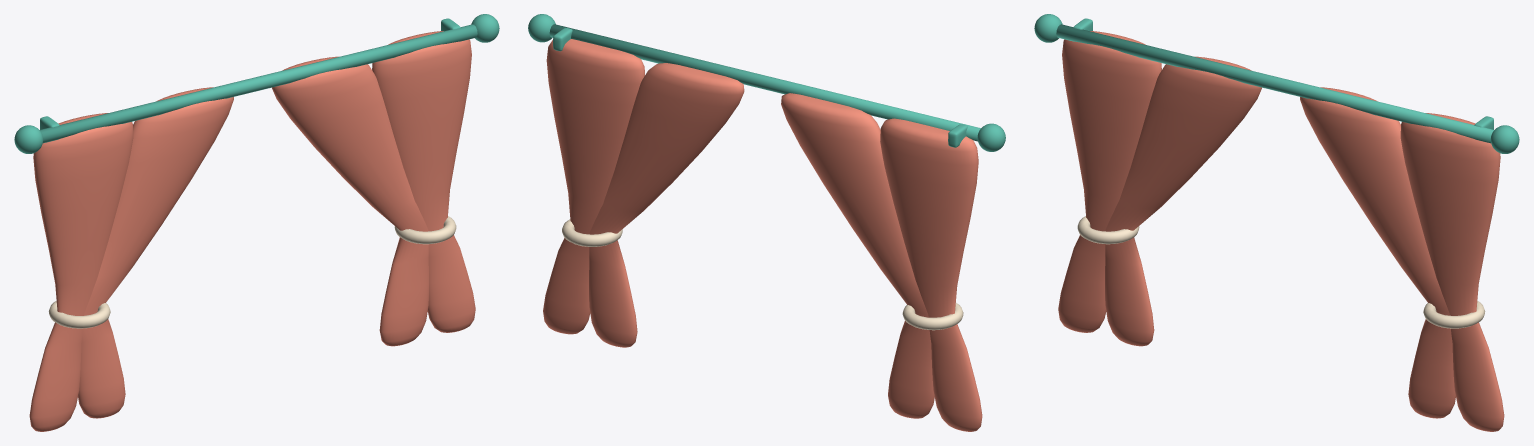
File: curtains_b.glb
The picture shows the model from 3 angles, left to right: view 1: azimuth 30°, elevation 25°; view 2: azimuth 150°, elevation 25°; view 3: azimuth 330°, elevation 25°; orthographic projection.
Visible parts, largest first — view 1: body; view 2: body; view 3: body.
Boxes of the visible parts, x1=… form: body: x1=14, y1=14, x2=499, y2=431; body: x1=528, y1=14, x2=1005, y2=431; body: x1=1034, y1=14, x2=1519, y2=431.
Bounding box in the file's own units: 1.92 × 1.19 × 0.214.
